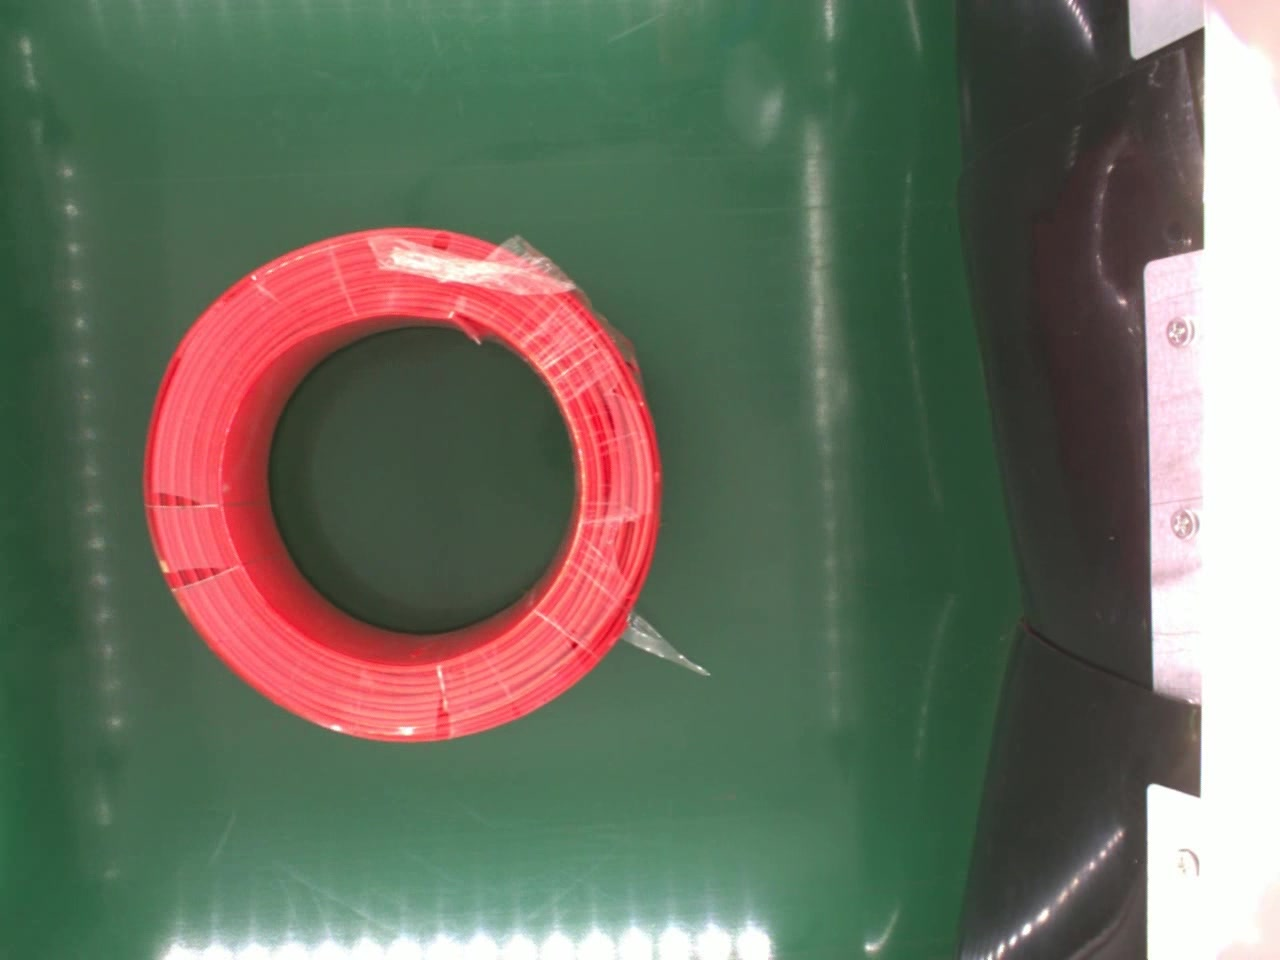red: (138, 222, 668, 745)
